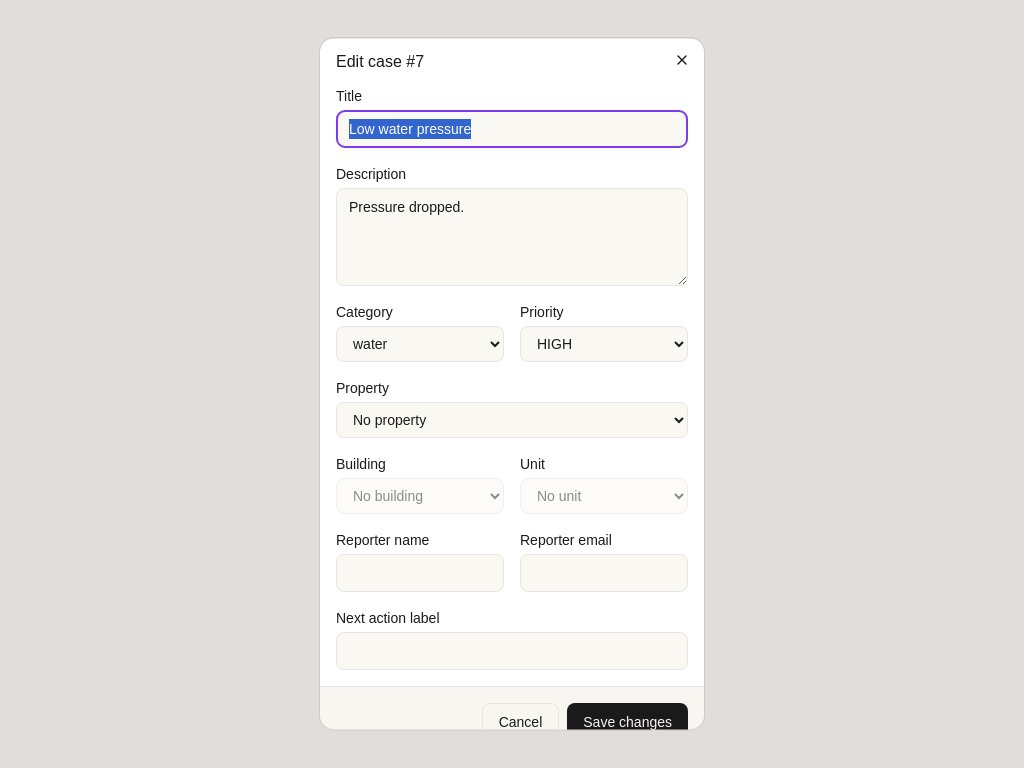
Test: EditCaseDialog › disables submit while in flight
Click the button "Save changes": (628, 722) left=567, top=703, right=688, bottom=741
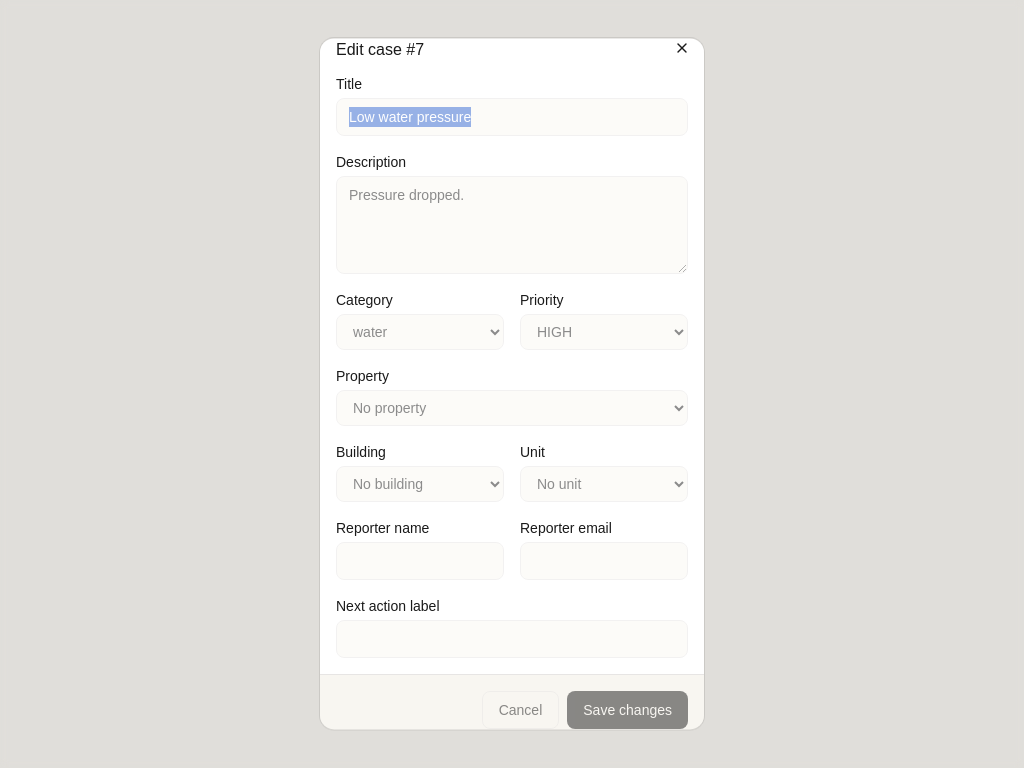
expect the button "Save changes" is disabled: met, box left=567, top=691, right=688, bottom=729
